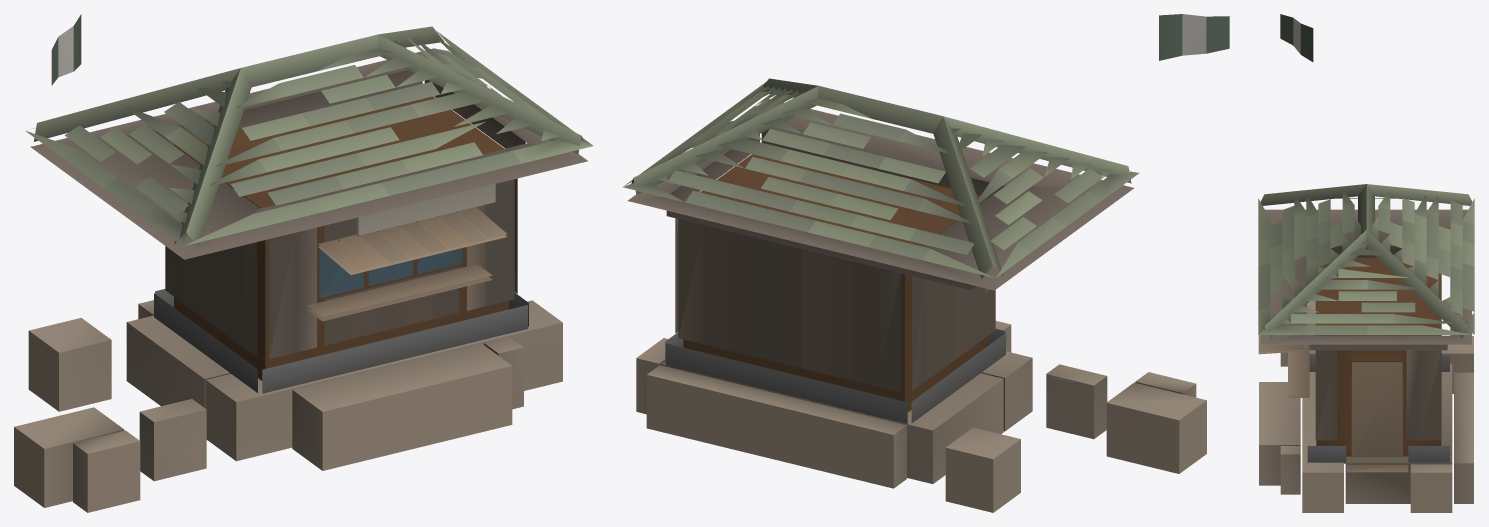
Rendered from hiproof.lod.glb.
The picture shows the model from 3 angles, left to right: view 1: azimuth 30°, elevation 25°; view 2: azimuth 150°, elevation 25°; view 3: azimuth 270°, elevation 25°; orthographic projection. The views are drawn at different scales.
Parts seen in each view (by area): view 1: hiproof; view 2: hiproof; view 3: hiproof.
Boxes of the visible parts, x1,y1,x2,y2 form: hiproof: (14,14,593,512); hiproof: (622,14,1229,512); hiproof: (1258,14,1474,512).
Size of the model in its own units: 9.62 by 8.33 by 5.
